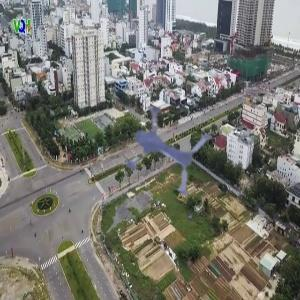drone: (99, 88, 216, 205)
